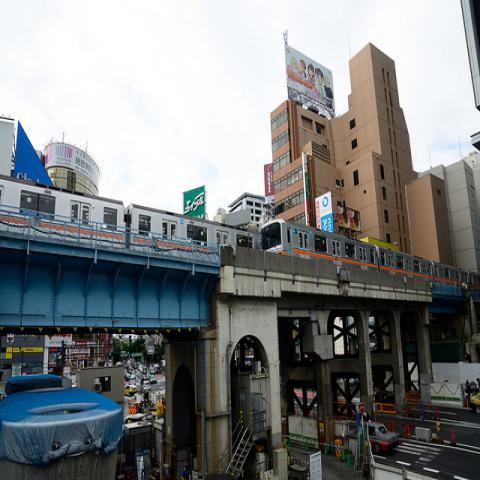car: (344, 424, 400, 459), (470, 392, 480, 414), (123, 384, 137, 397), (140, 380, 151, 392), (148, 373, 158, 384), (150, 366, 161, 374), (128, 378, 137, 386), (125, 373, 131, 382), (140, 378, 149, 384), (131, 371, 136, 380), (142, 366, 147, 374), (129, 366, 134, 373), (140, 366, 143, 374)
truck: (150, 364, 162, 375)
